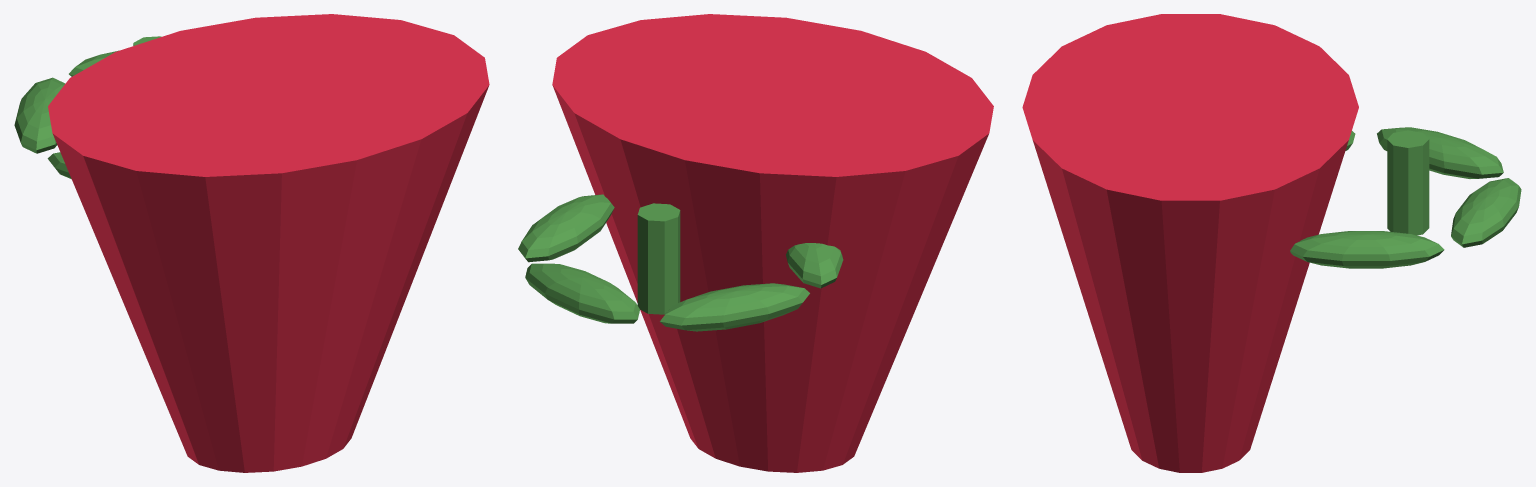
File: charm-strawberry.glb
The picture shows the model from 3 angles, left to right: view 1: azimuth 30°, elevation 25°; view 2: azimuth 150°, elevation 25°; view 3: azimuth 270°, elevation 25°; orthographic projection. The views are drawn at different scales.
Parts seen in each view (by area): view 1: charm_strawberry; view 2: charm_strawberry; view 3: charm_strawberry.
Boxes of the visible parts, <box> form: charm_strawberry: <box>14,14,489,472</box>; charm_strawberry: <box>518,14,993,472</box>; charm_strawberry: <box>1022,14,1521,472</box>.
Bounding box in the file's own units: 0.0063 × 0.0052 × 0.00712.
